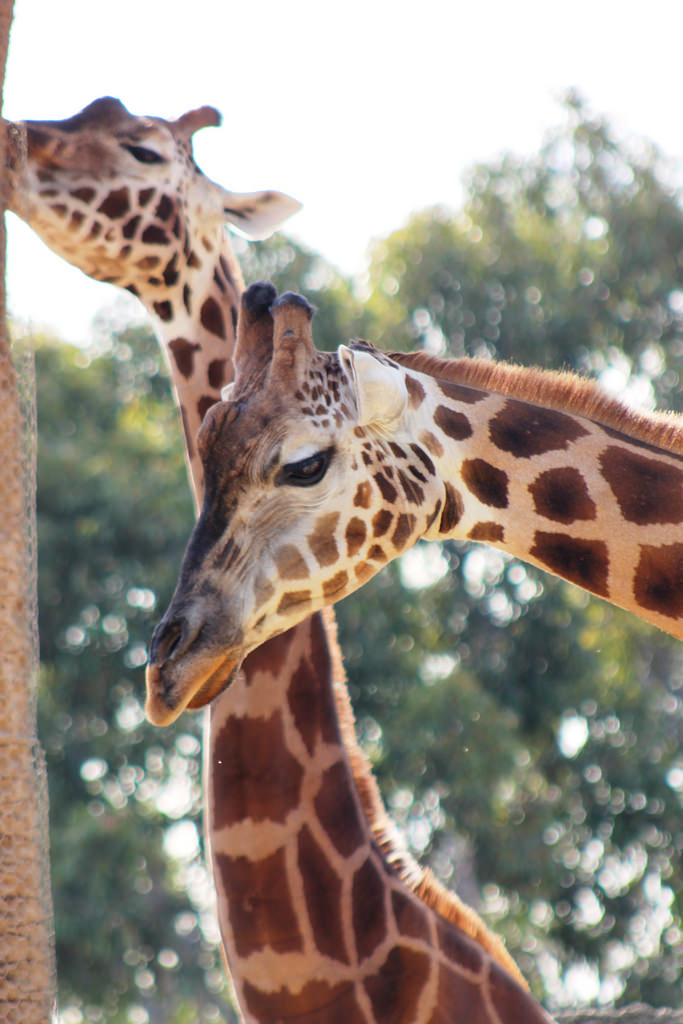giraffe: (23, 77, 482, 1019), (99, 353, 681, 717)
